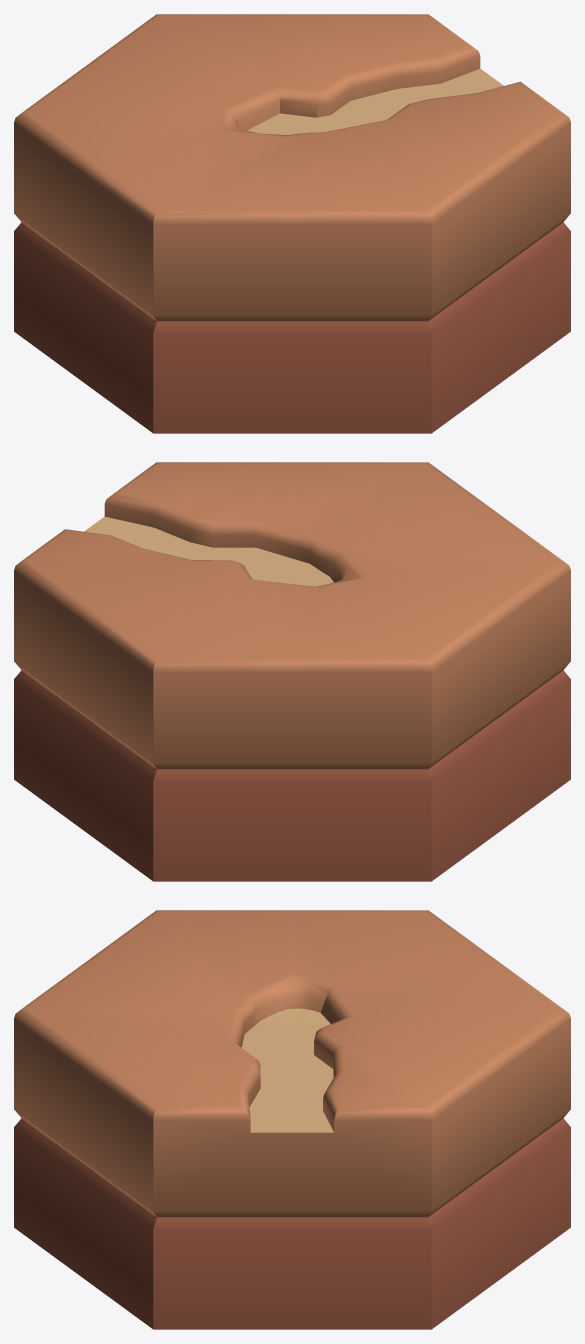
The model's file is hex_rock_roadA_detail.glb.
3 renders of one model, top to bottom at view 1: azimuth 30°, elevation 25°; view 2: azimuth 150°, elevation 25°; view 3: azimuth 270°, elevation 25°, orthographic.
Visible parts, largest first — view 1: hex_rock_roadA_detail; view 2: hex_rock_roadA_detail; view 3: hex_rock_roadA_detail.
Part boxes in pixels (box(x1,y1,x2,y2)): hex_rock_roadA_detail: box(14, 14, 570, 433); hex_rock_roadA_detail: box(14, 462, 570, 881); hex_rock_roadA_detail: box(14, 910, 570, 1329).
Size of the model in its own units: 3.82 by 1.91 by 4.41.
